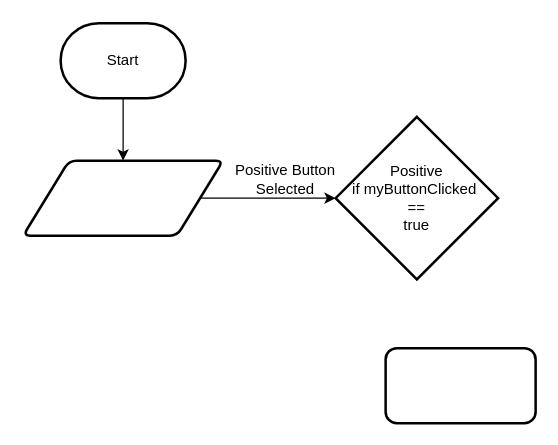
Some shapes in this 558 by 445 pixel diagram are drawn without their labels. The shapes that lost their labels are listed below. From the top down, each one's centre as x and y in pixels, then its label:
pixel 122 197: Show Radio buttons (positive / negative)
pixel 460 385: Generate Positive Number
